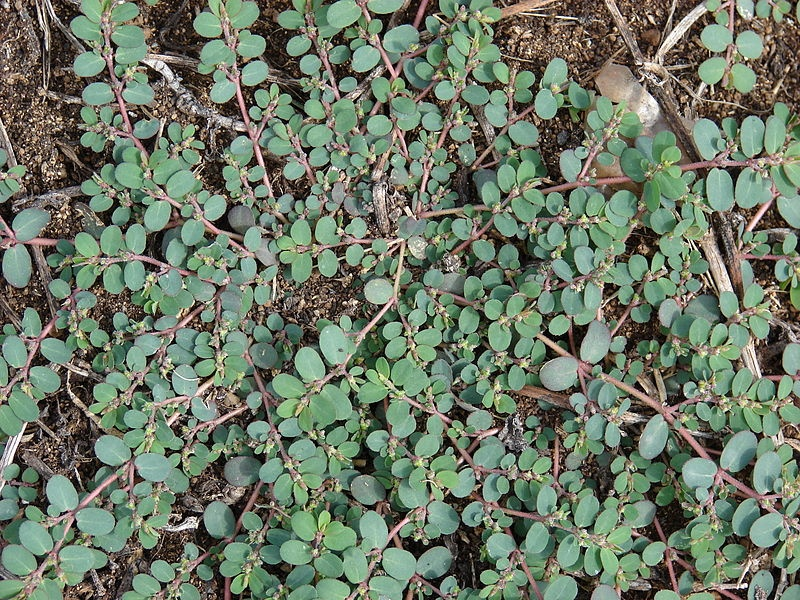weed: (24, 21, 782, 576)
